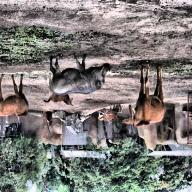boar: (43, 44, 123, 101)
